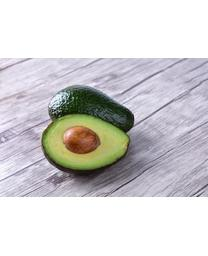avocado: (41, 113, 130, 175), (48, 84, 134, 138)
